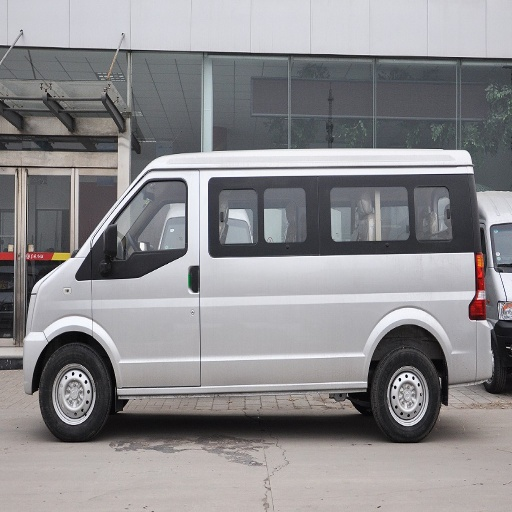back_left_door: (291, 308, 325, 377)
trunk: (321, 256, 487, 382)
